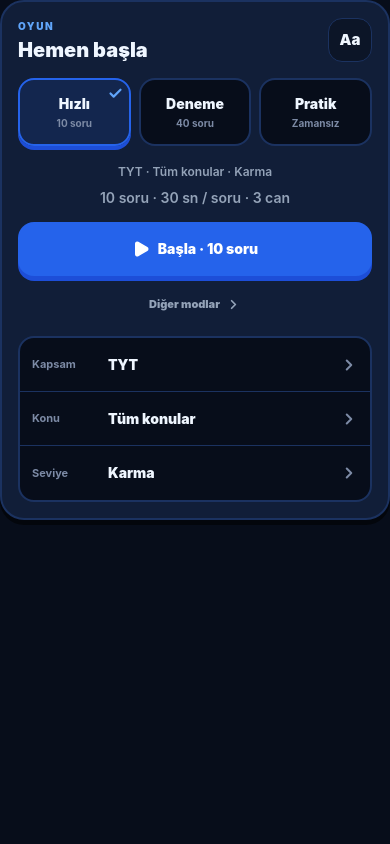
Test: MobileLobbyFlow › sınav kapsamını ve seviyeyi bağımsız alt panellerden seçer
The image size is (390, 844).
Click the button with aria-label "Kapsam seç: TYT" at (54, 364), box [20,338,370,392]
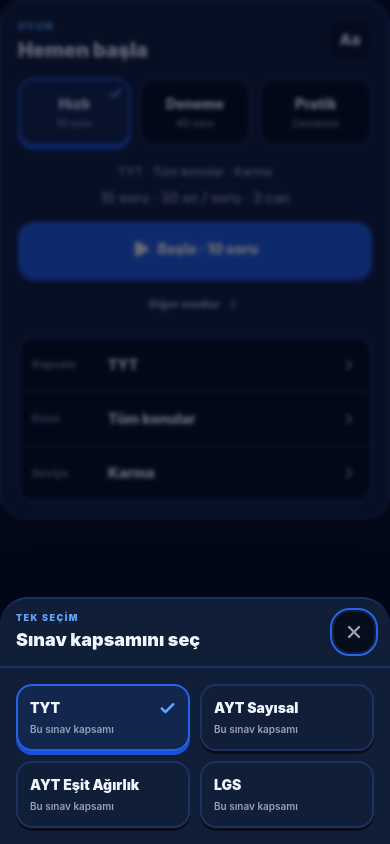
Click the button "AYT Eşit Ağırlık Bu sınav kapsamı" at (103, 794), box [16,761,190,828]
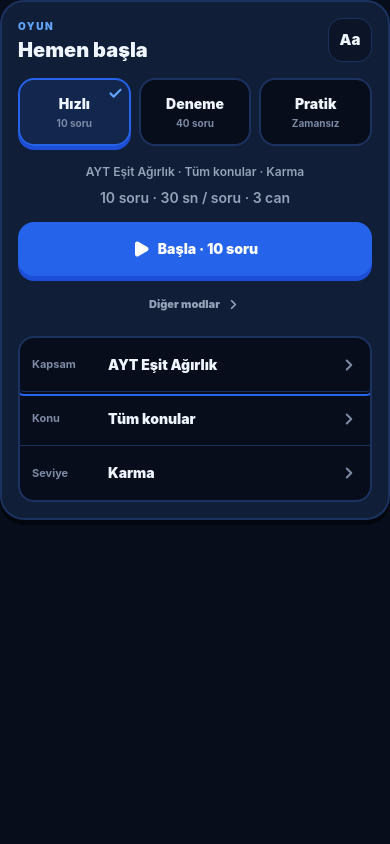
Result: the button with aria-label "Kapsam seç: AYT Eşit Ağırlık" is shown at [20,338,370,392]
Click the button with aria-label "Seviye seç: Karma" at (50, 473), box [20,446,370,500]
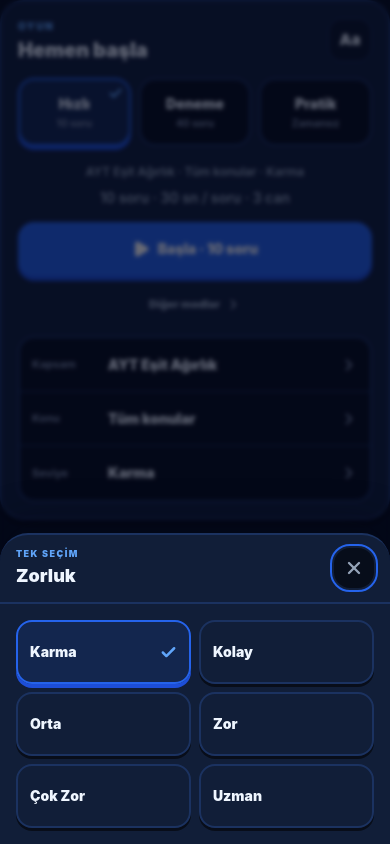
Click the button "Orta" at (104, 724), box [16,692,191,756]
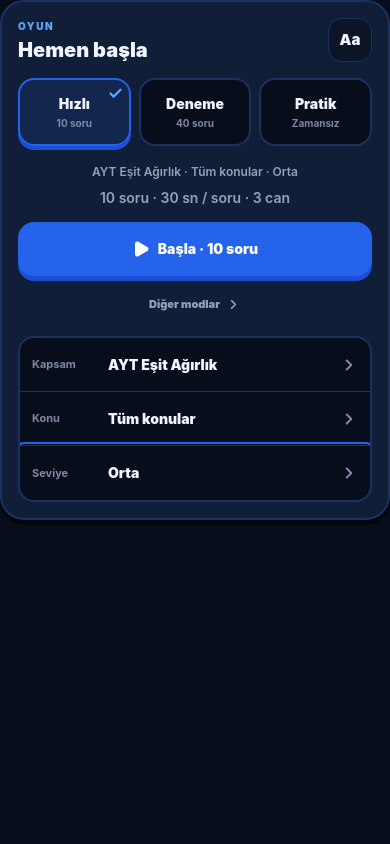
Result: the button with aria-label "Seviye seç: Orta" is shown at [20,446,370,500]
